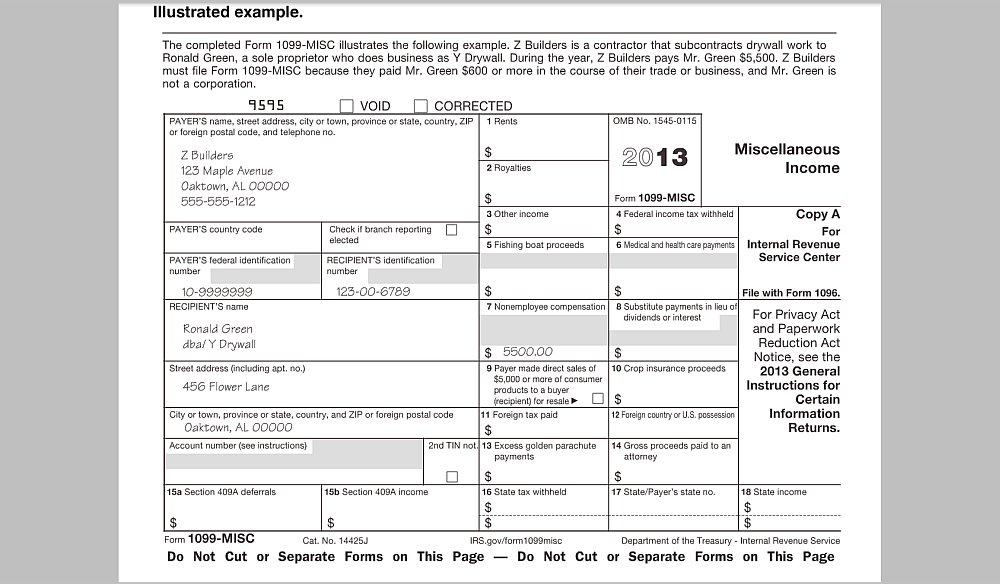checkbox: (338, 98, 355, 114), (412, 98, 429, 114), (444, 221, 458, 237), (445, 469, 459, 485), (590, 390, 604, 406)
textbox: (161, 111, 481, 225), (160, 296, 481, 364), (161, 357, 482, 410), (159, 433, 427, 487), (160, 405, 482, 442), (474, 234, 613, 303), (603, 234, 742, 303), (474, 294, 613, 363), (602, 298, 741, 367), (159, 480, 325, 534), (317, 483, 483, 537), (160, 250, 324, 303), (318, 251, 482, 304), (474, 110, 611, 163), (474, 156, 611, 209), (605, 358, 739, 410), (476, 436, 612, 486), (606, 436, 742, 486), (475, 483, 611, 533), (608, 483, 744, 533), (160, 220, 324, 255), (737, 483, 844, 534), (475, 203, 612, 240), (605, 204, 742, 241), (476, 482, 612, 519), (606, 482, 742, 519), (477, 405, 610, 441), (608, 405, 741, 441), (738, 482, 846, 518)
